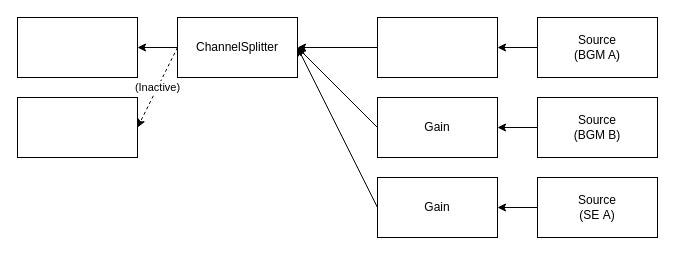
This 675x255 diagram has some shape labels left out. Each missing label, with the centre of its shape:
Destination (Speaker): (77,47)
Destination (Virtual Output): (77,127)
Gain (Volume Control): (437,47)
